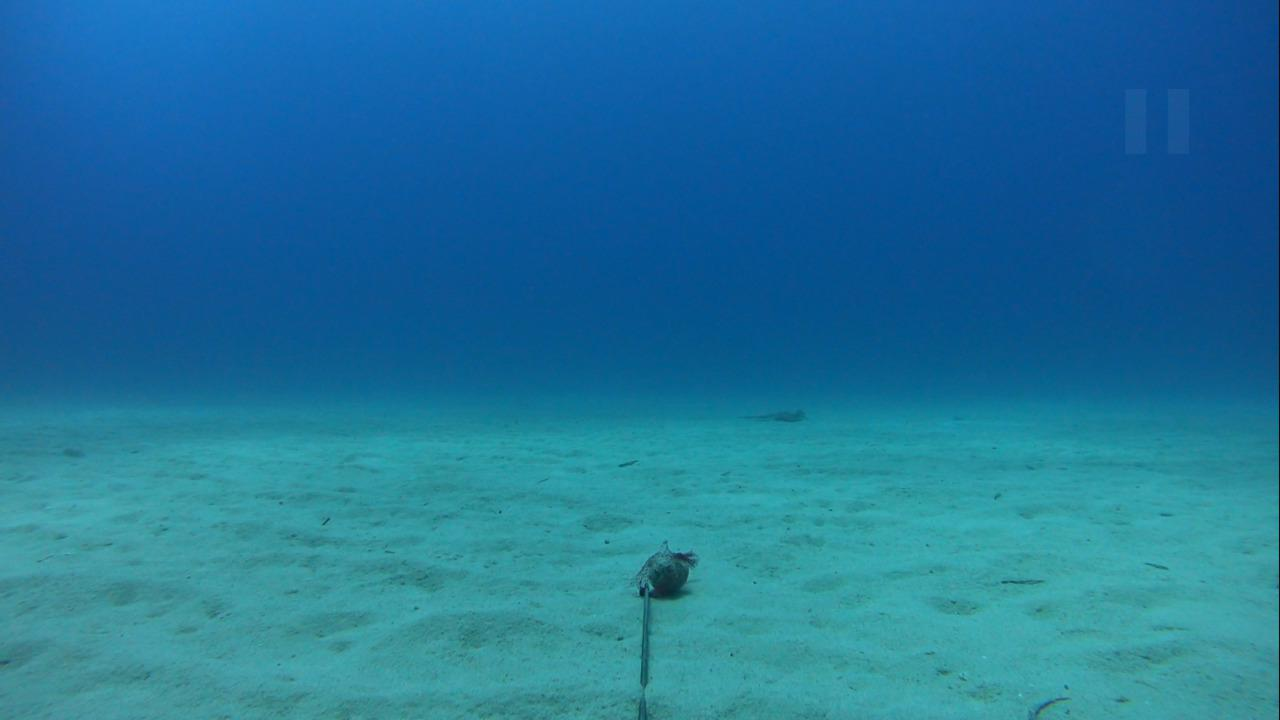myliobatis: (714, 399, 813, 431)
